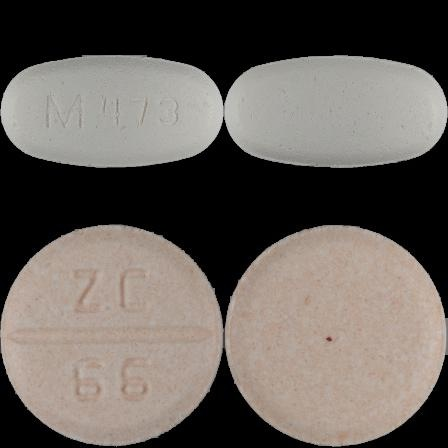0615-7555: (0, 0, 224, 224)
